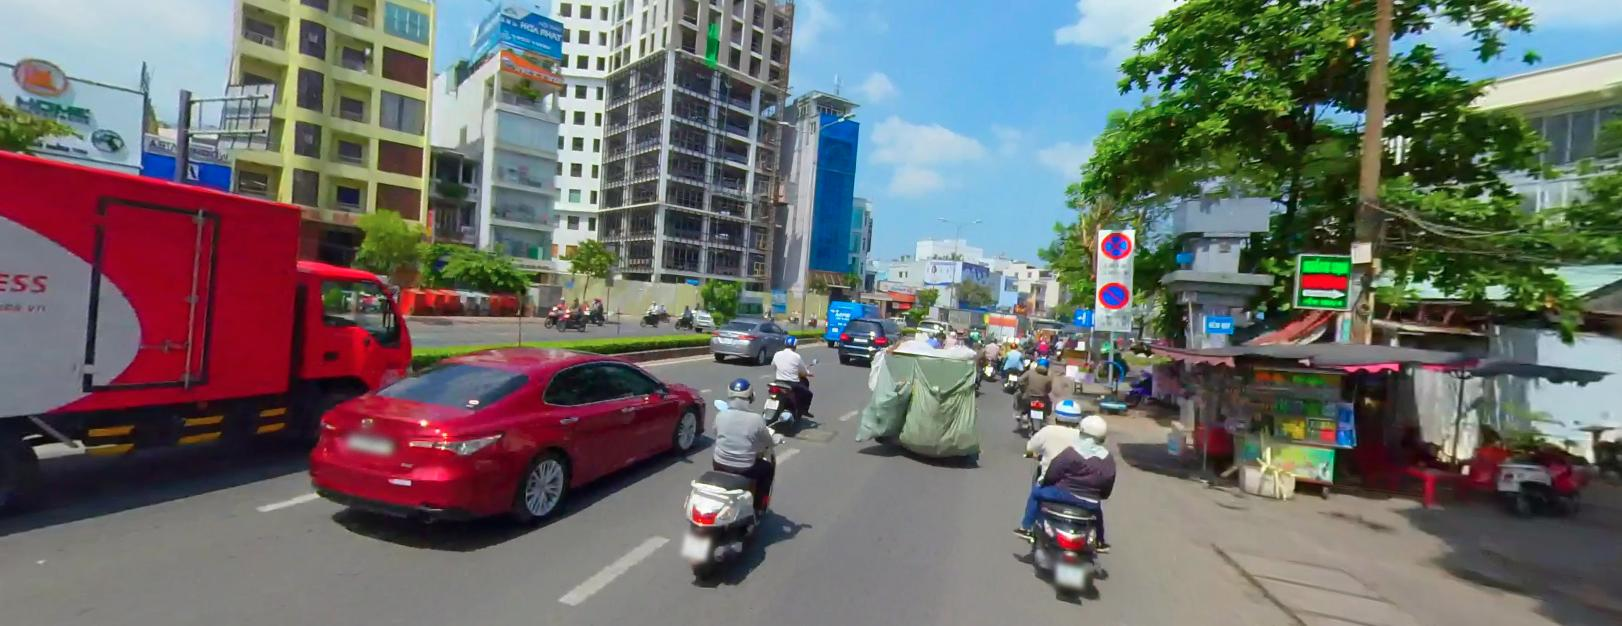Cam dung va do: (1100, 229, 1132, 258), (1097, 280, 1130, 308)
